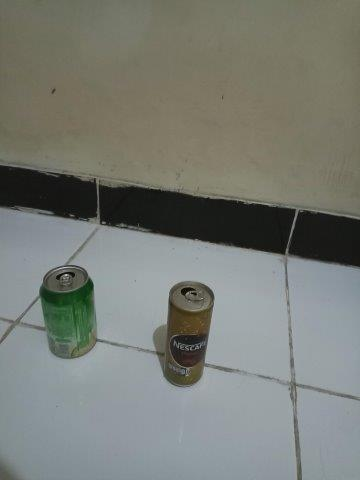kaleng: (163, 280, 215, 388), (39, 264, 96, 359)
